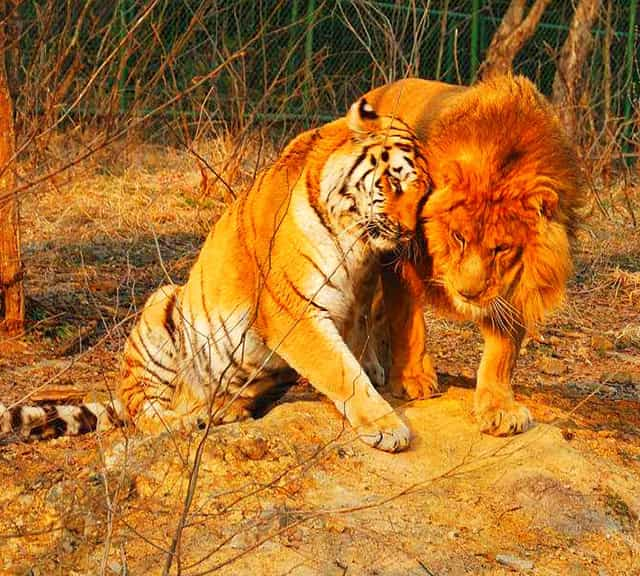lion: (355, 70, 575, 433)
tiger: (119, 101, 431, 444)
